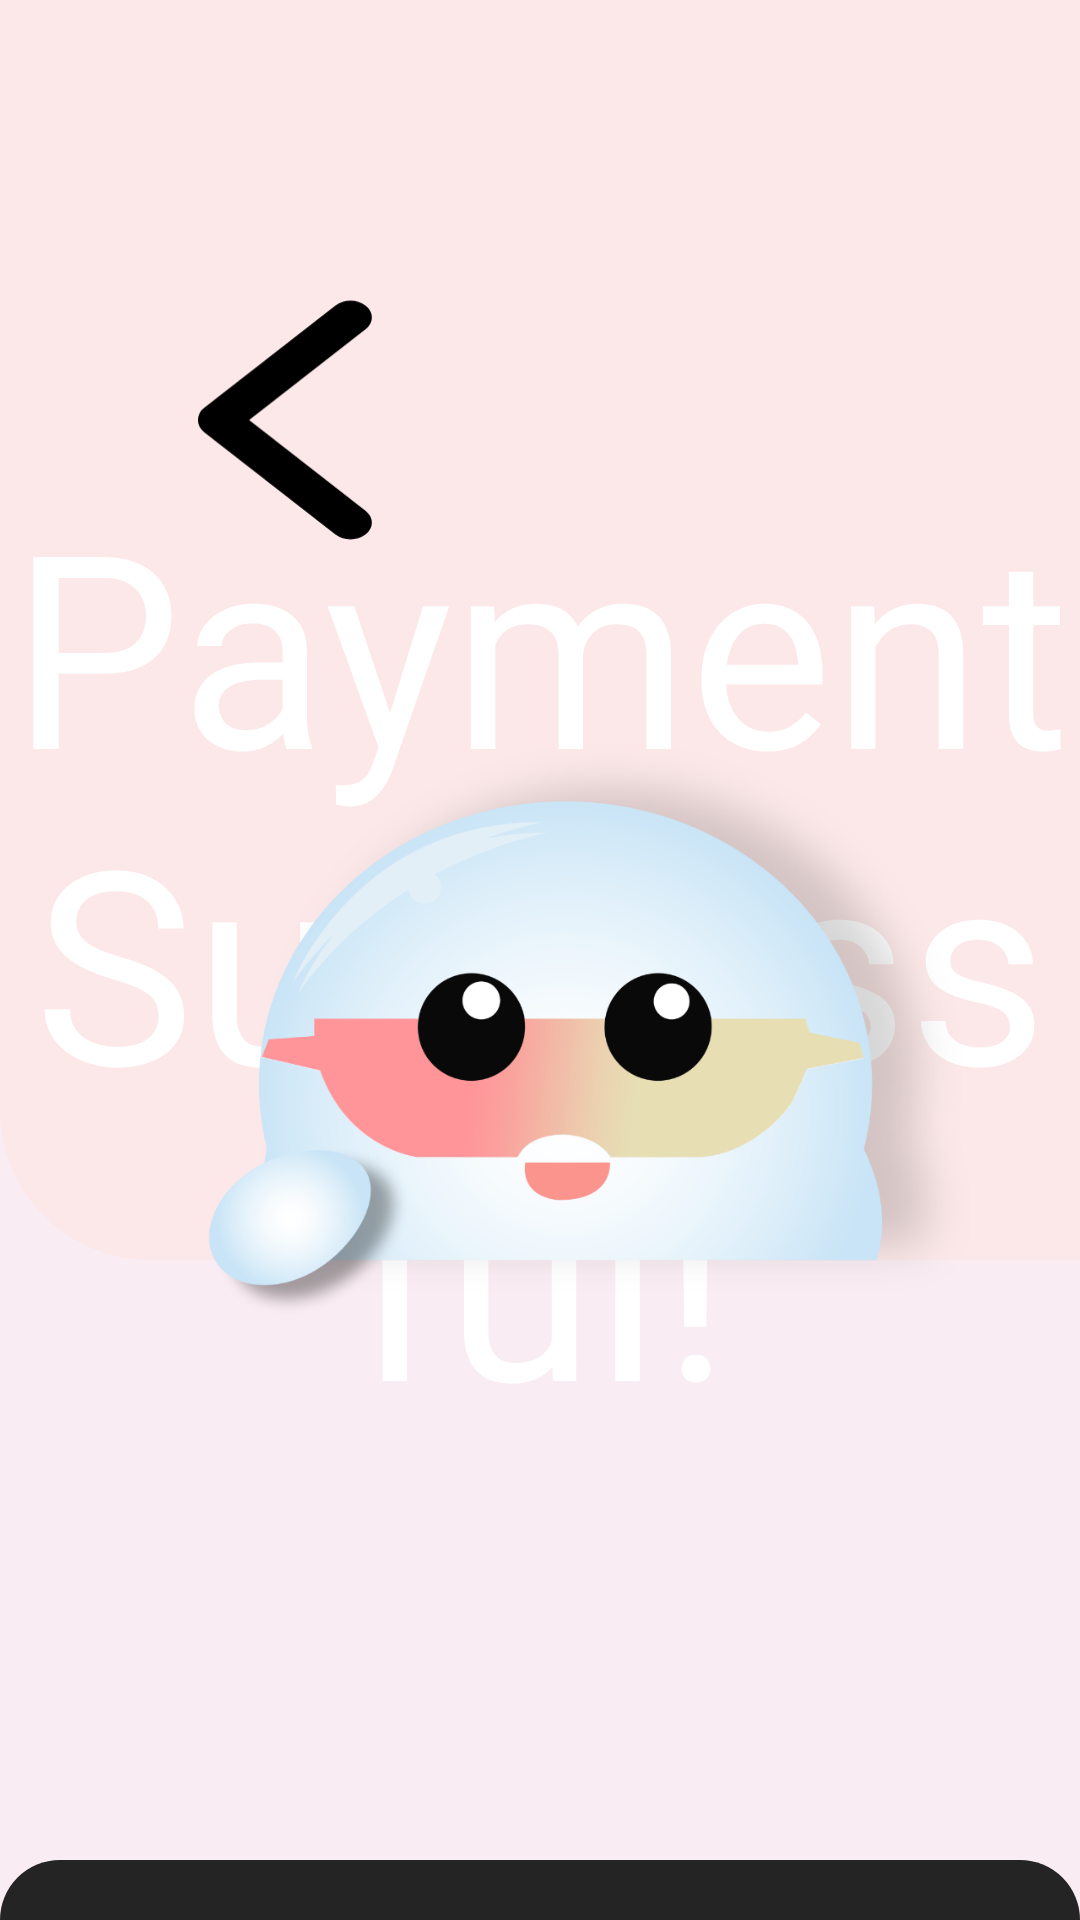

Icons on this 1080px×1920px Android screen, each with its box as {"x1": x1, "y1": y1, "x2": x2, "y2": y2}:
back: {"x1": 198, "y1": 300, "x2": 372, "y2": 540}
